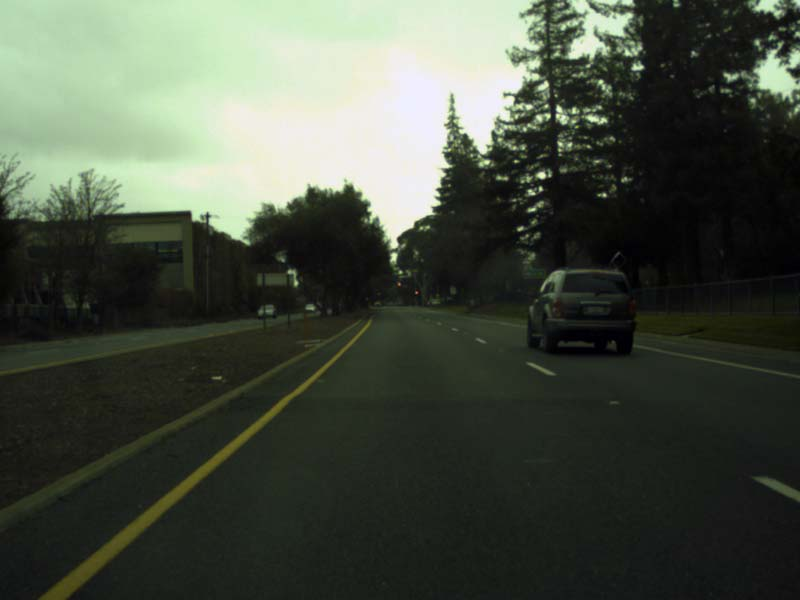Red: (414, 288, 419, 298), (376, 288, 381, 296), (397, 278, 402, 286)
